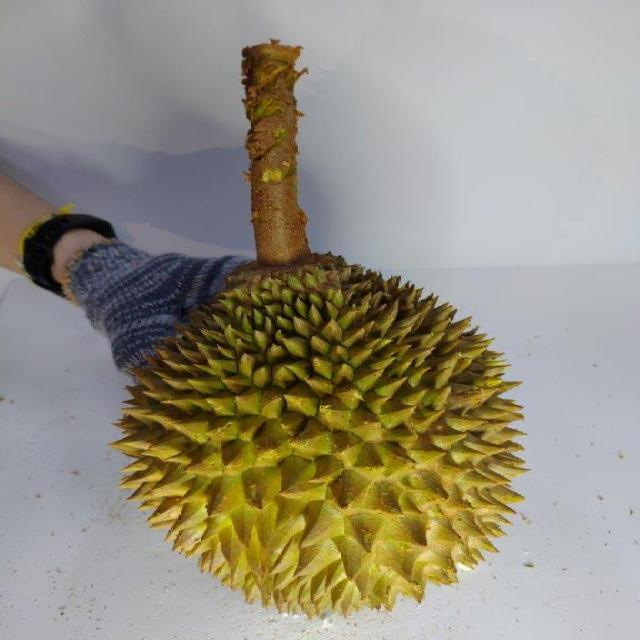immature: (110, 256, 531, 618)
